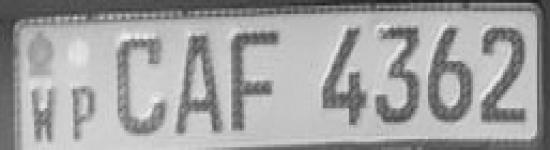2: (477, 20, 529, 130)
3: (370, 18, 425, 129)
4: (314, 22, 372, 129)
6: (424, 17, 476, 126)
A: (171, 25, 228, 139)
C: (112, 28, 171, 142)
F: (228, 25, 282, 136)
P: (69, 84, 96, 144)
W: (30, 85, 58, 145)
